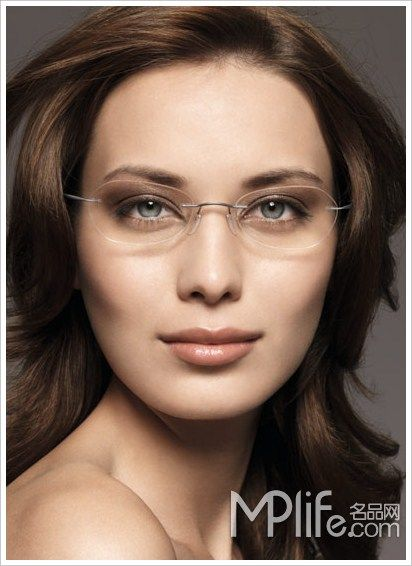llen: (234, 184, 339, 250)
rlen: (87, 179, 195, 245)
